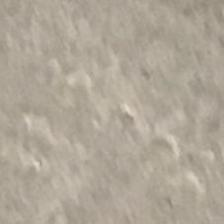Non_Crack: (48, 43, 196, 214)
